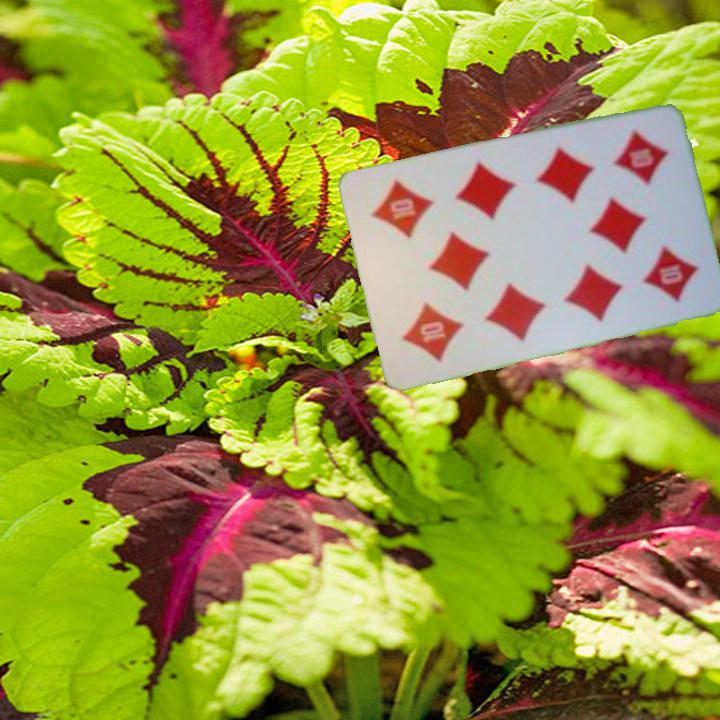d_10.png: (584, 114, 690, 230), (376, 259, 481, 375)
